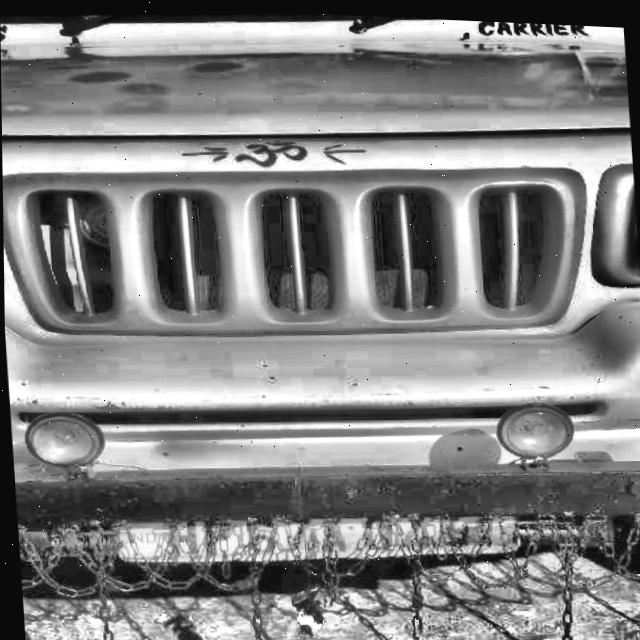light_vehicle: (0, 0, 640, 589)
